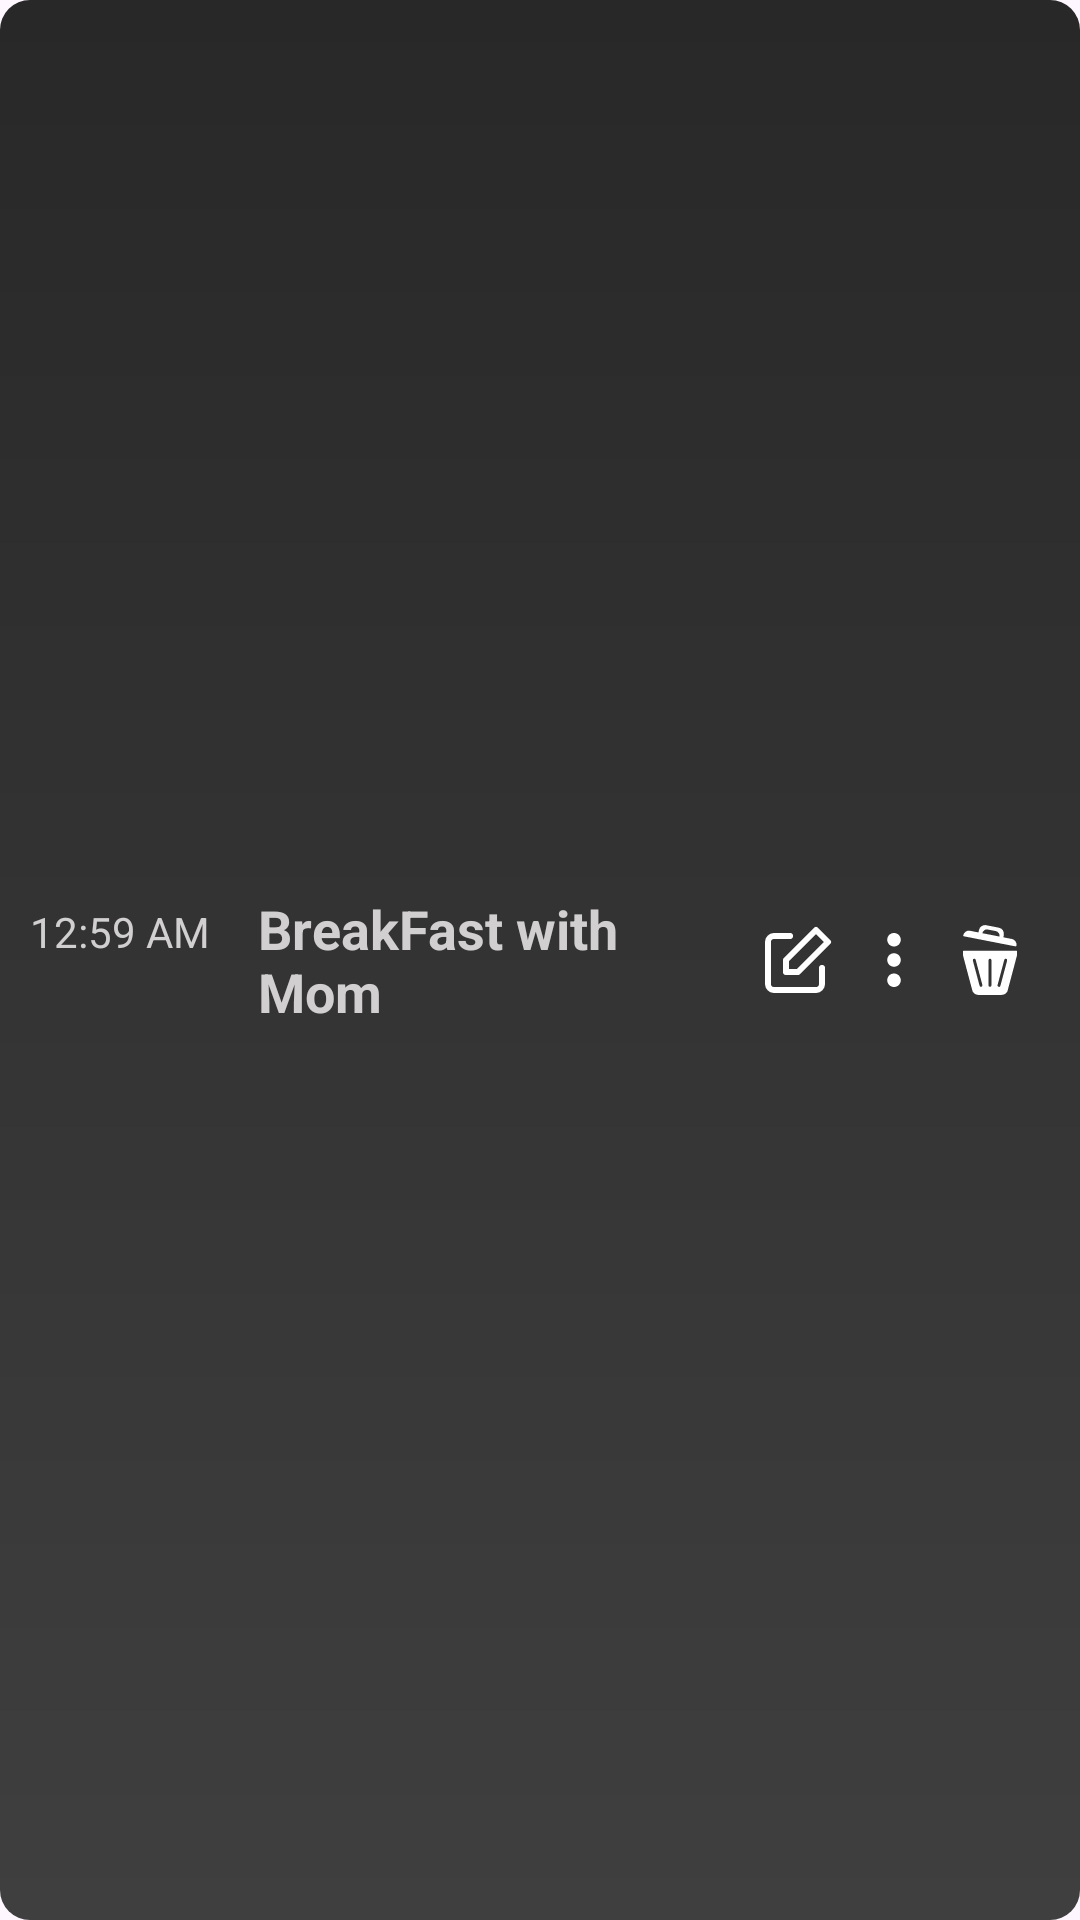

Named icons in this screenshot (1080×1920) and their centers, [x,y]:
delete: [990,960]
dot menu: [894,960]
edit: [798,960]
